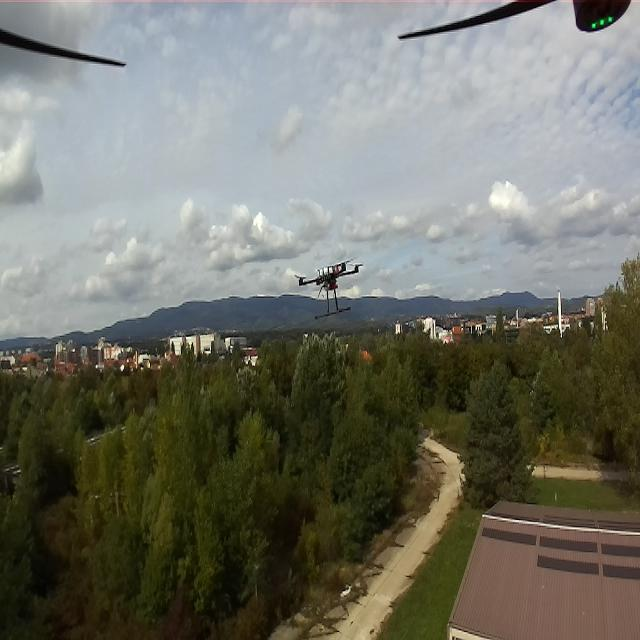UAV: (294, 254, 365, 323)
